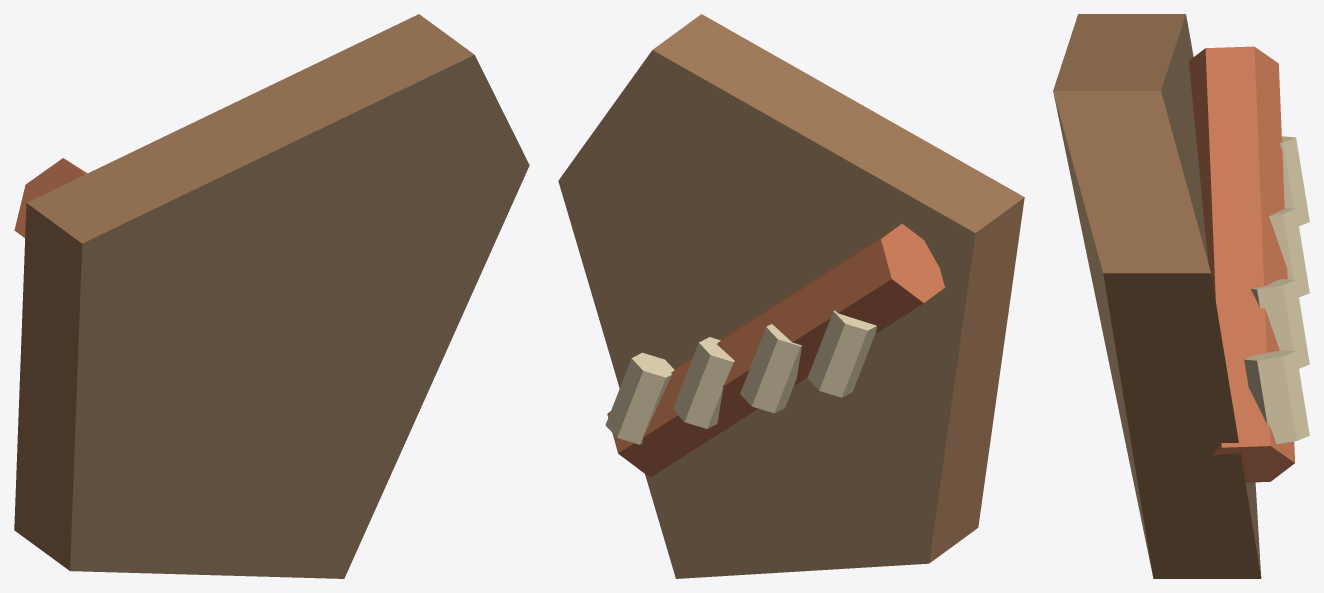
The model's file is trophy_pelt.glb.
3 renders of one model, left to right at view 1: azimuth 30°, elevation 25°; view 2: azimuth 150°, elevation 25°; view 3: azimuth 270°, elevation 25°, orthographic. The views are drawn at different scales.
Parts seen in each view (by area): view 1: trophy_pelt; view 2: trophy_pelt; view 3: trophy_pelt.
Part boxes in pixels (bbox=[...]): trophy_pelt: bbox=[14, 14, 529, 578]; trophy_pelt: bbox=[558, 14, 1024, 578]; trophy_pelt: bbox=[1053, 14, 1309, 578].
Size of the model in its own units: 0.41 by 0.462 by 0.2047.
